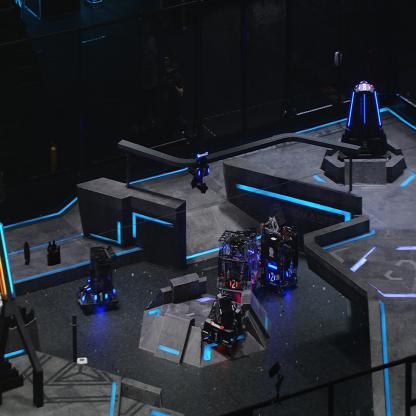car: (76, 244, 121, 314), (216, 227, 258, 300), (202, 285, 244, 356), (259, 220, 299, 292)
